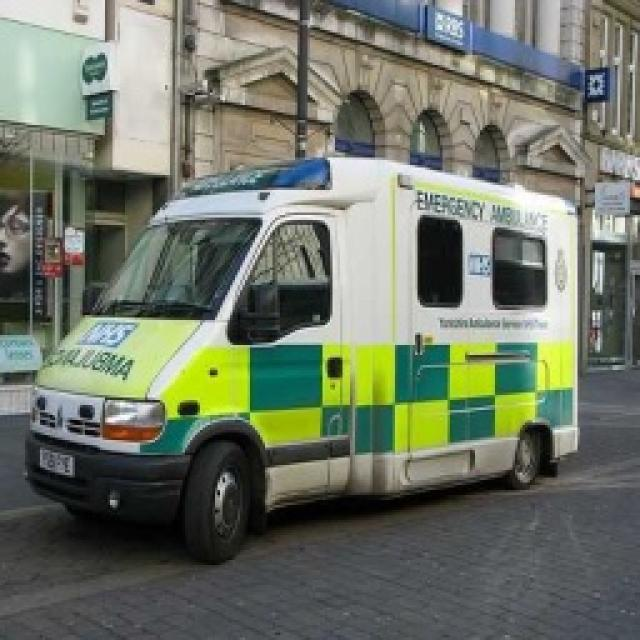emergency-vehicle: (33, 158, 584, 544)
